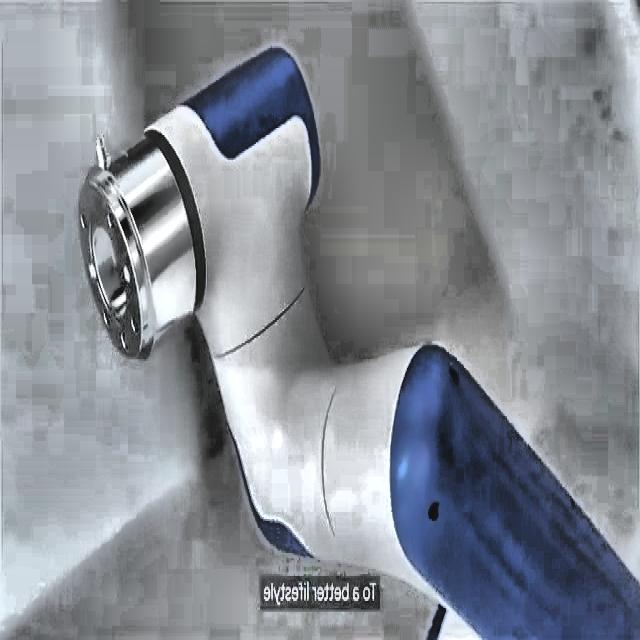robot: (78, 43, 640, 636)
